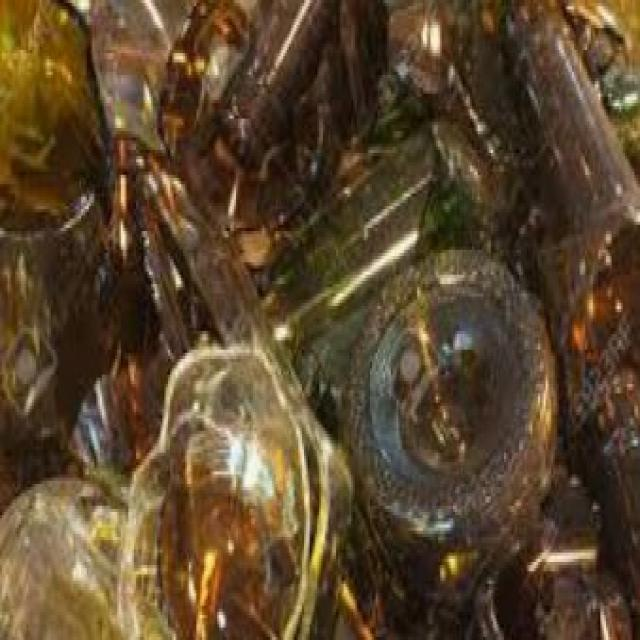electronic: (345, 246, 562, 596), (120, 337, 313, 640)
